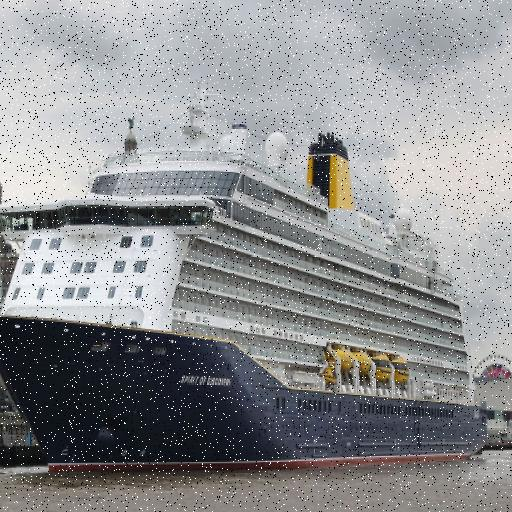cruises: (1, 83, 492, 487)
